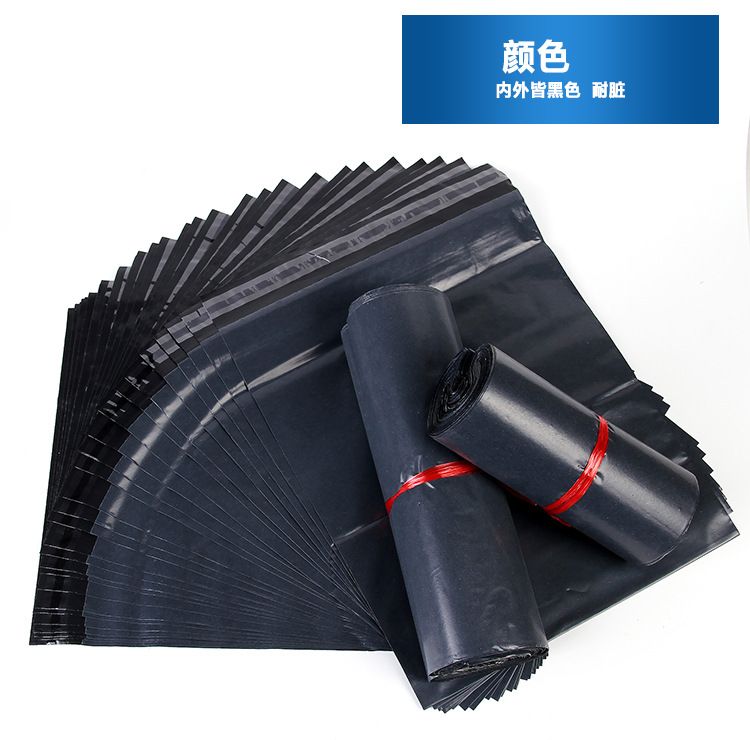塑料袋: (0, 107, 692, 740)
